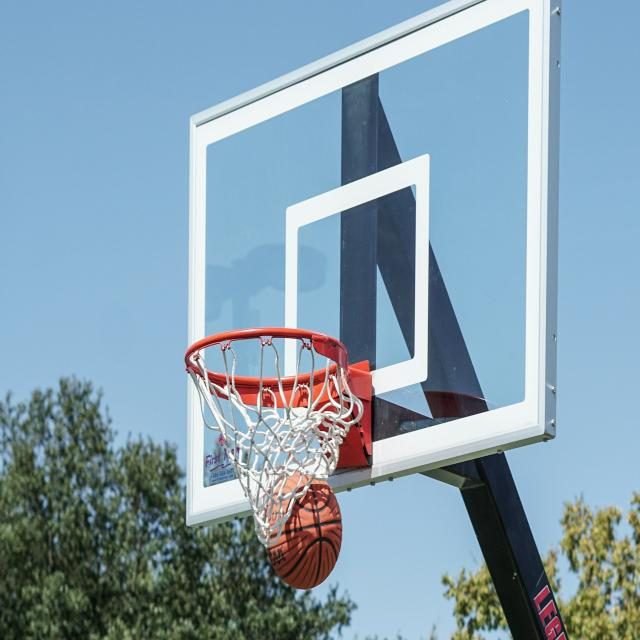Goal: (265, 473, 342, 589)
